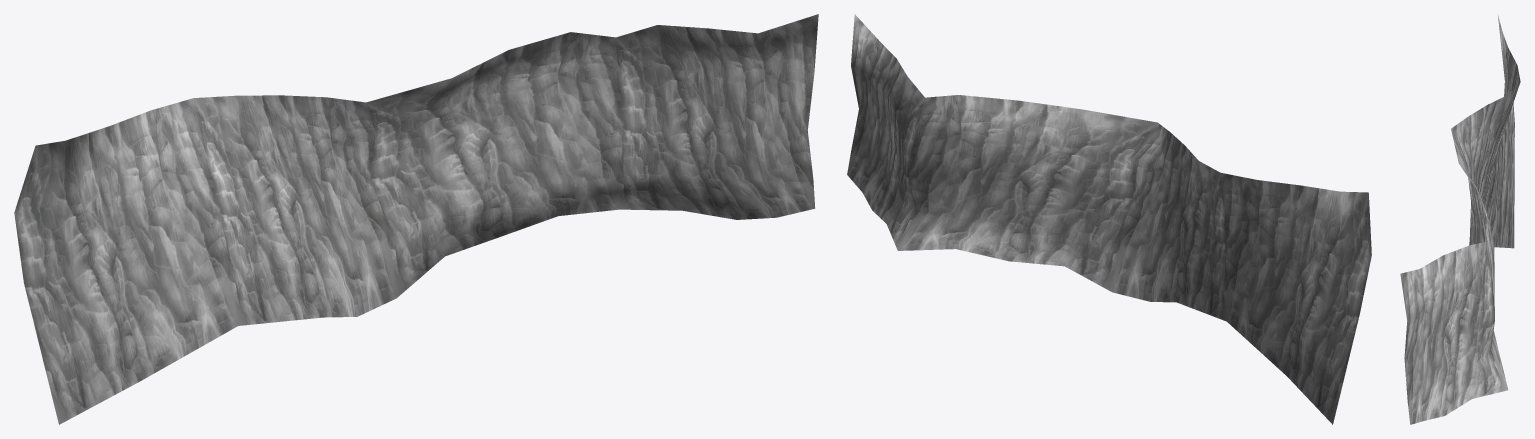
File: SWORDLIGHT20_PS-AREA03_160.fbx
3 renders of one model, left to right at view 1: azimuth 30°, elevation 25°; view 2: azimuth 150°, elevation 25°; view 3: azimuth 270°, elevation 25°, orthographic. The views are drawn at different scales.
Visible parts, largest first — view 1: SWORDLIGHT20_PS-AREA03_160; view 2: SWORDLIGHT20_PS-AREA03_160; view 3: SWORDLIGHT20_PS-AREA03_160.
Boxes of the visible parts, box(x1,y1,x2,y2) form: SWORDLIGHT20_PS-AREA03_160: box(14, 14, 818, 424); SWORDLIGHT20_PS-AREA03_160: box(847, 14, 1371, 424); SWORDLIGHT20_PS-AREA03_160: box(1400, 15, 1520, 424).
Size of the model in its own units: 180769 by 70564 by 34231.
Materials: 1 (1 with a texture image).
